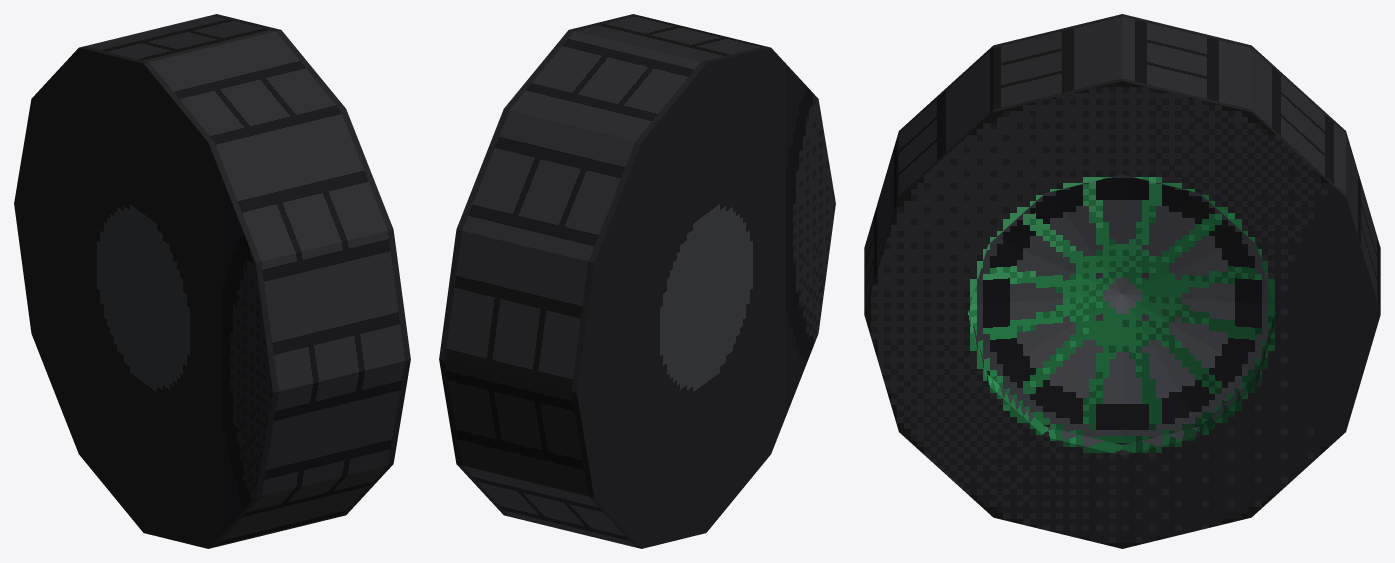
The model's file is wheel_rally.glb.
3 views of the same model, side by side, from view 1: azimuth 30°, elevation 25°; view 2: azimuth 150°, elevation 25°; view 3: azimuth 270°, elevation 25° (orthographic).
Parts seen in each view (by area): view 1: wheel_rally; view 2: wheel_rally; view 3: wheel_rally.
Boxes of the visible parts, x1,y1,x2,y2 form: wheel_rally: (14,14,410,548); wheel_rally: (439,14,835,548); wheel_rally: (864,14,1380,548).
Size of the model in its own units: 0.195 by 0.6345 by 0.6345.
Materials: 1 (1 with a texture image).
